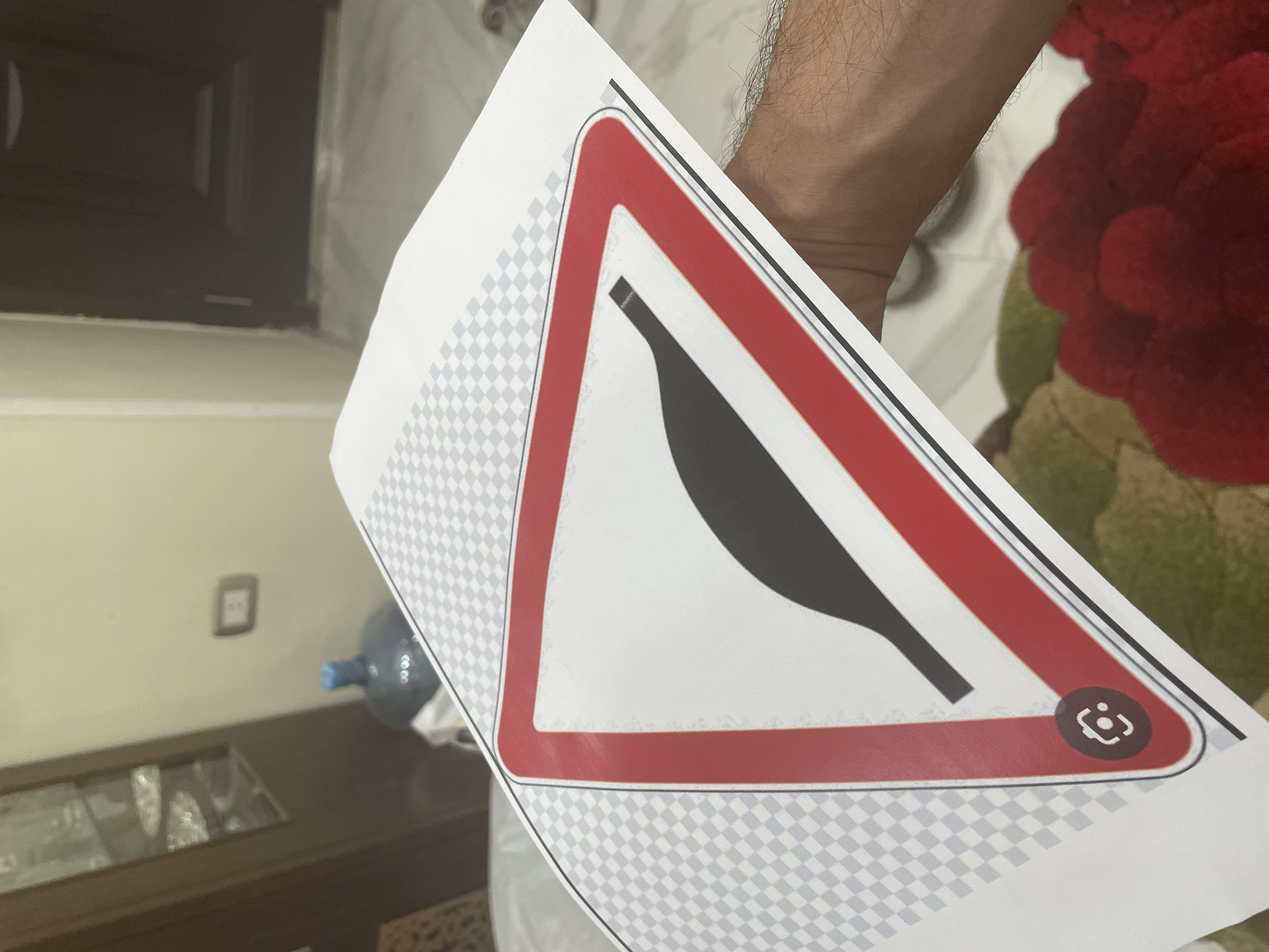Hump: (210, 355, 1134, 917)
